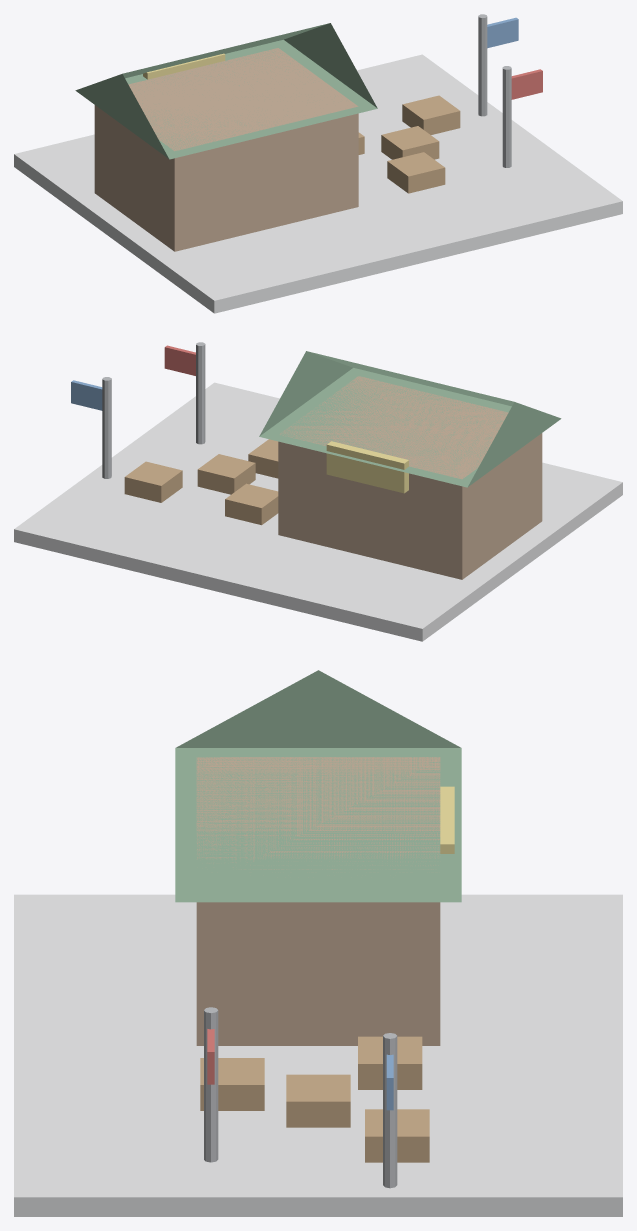
File: trading_post.glb
3 renders of one model, top to bottom at view 1: azimuth 30°, elevation 25°; view 2: azimuth 150°, elevation 25°; view 3: azimuth 270°, elevation 25°, orthographic. The views are drawn at different scales.
Visible parts, largest first — view 1: ground, hut, roof, crate_3, crate_2, crate_1, flagpole_1, flagpole_0, flag_1, flag_0, sign; view 2: ground, hut, roof, sign, crate_2, crate_1, crate_0, flagpole_0, flagpole_1, crate_3, flag_1, flag_0; view 3: ground, hut, roof, crate_1, crate_2, crate_0, crate_3, flagpole_0, flagpole_1, sign.
Part boxes in pixels (<box>): ground: <box>14,54,622,313</box>; hut: <box>94,48,358,251</box>; roof: <box>75,23,377,159</box>; crate_3: <box>387,152,445,193</box>; crate_2: <box>402,95,460,134</box>; crate_1: <box>381,126,439,159</box>; flagpole_1: <box>478,14,487,116</box>; flagpole_0: <box>502,66,511,167</box>; flag_1: <box>487,17,518,48</box>; flag_0: <box>511,69,542,99</box>; sign: <box>143,53,225,79</box>; ground: <box>14,382,622,641</box>; hut: <box>278,376,542,579</box>; roof: <box>259,351,561,487</box>; sign: <box>326,441,408,493</box>; crate_2: <box>124,461,182,502</box>; crate_1: <box>197,454,255,494</box>; crate_0: <box>225,483,278,525</box>; flagpole_0: <box>196,342,205,444</box>; flagpole_1: <box>102,377,111,478</box>; crate_3: <box>248,439,278,478</box>; flag_1: <box>71,380,102,410</box>; flag_0: <box>164,345,195,375</box>; ground: <box>14,894,622,1216</box>; hut: <box>196,757,440,1045</box>; roof: <box>175,670,461,902</box>; crate_1: <box>286,1074,350,1127</box>; crate_2: <box>365,1109,429,1162</box>; crate_0: <box>358,1036,422,1089</box>; crate_3: <box>200,1058,264,1110</box>; flagpole_0: <box>204,1007,218,1162</box>; flagpole_1: <box>383,1033,397,1188</box>; sign: <box>440,786,454,853</box>.
Size of the model in its own units: 2.09 by 0.77 by 1.7.
